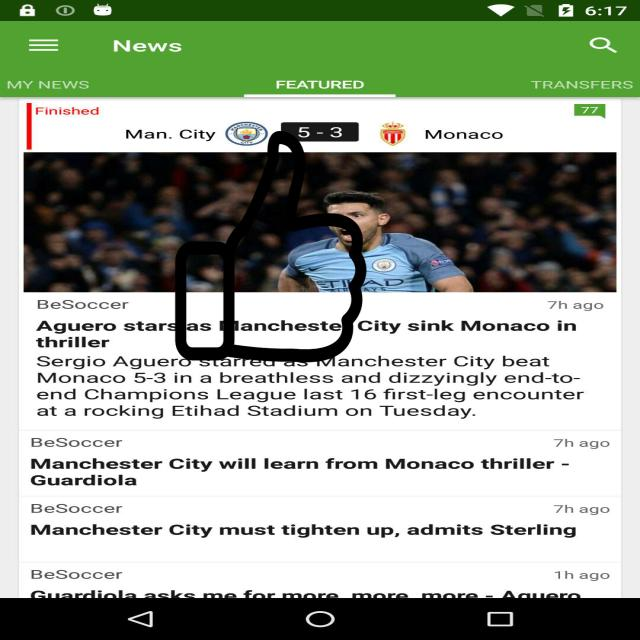privacy zuckering: (173, 131, 369, 362)
